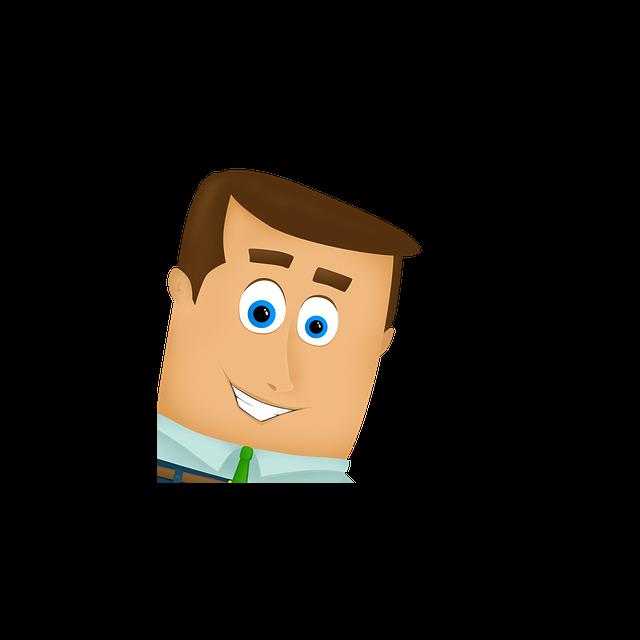male: (169, 159, 394, 468)
